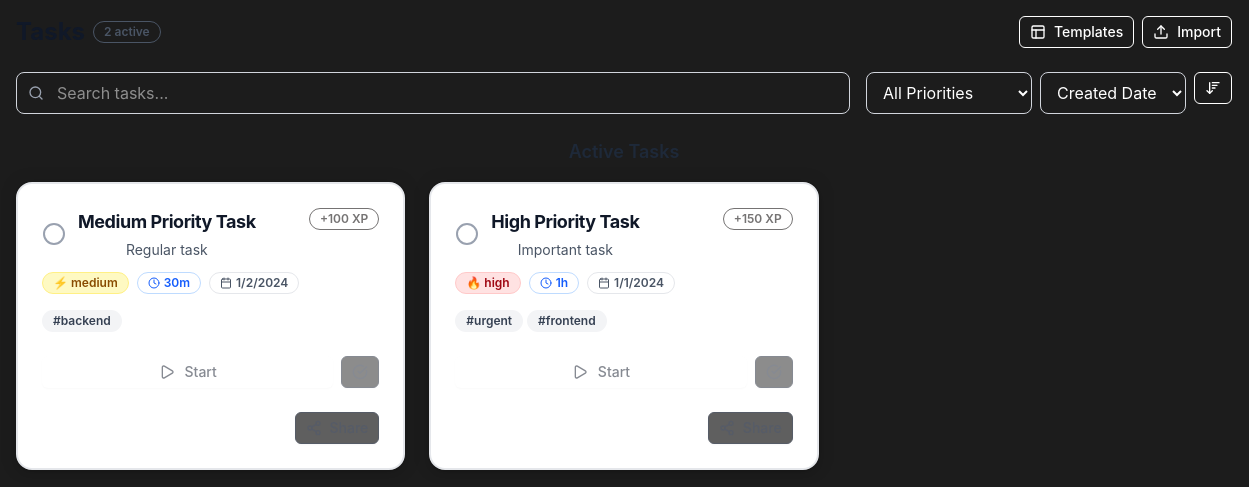
Scenario: TaskGrid › filters tasks by search query
Type "High Priority" into the field with placeholder "Search tasks..." at [433, 93], box [16,72,850,114]
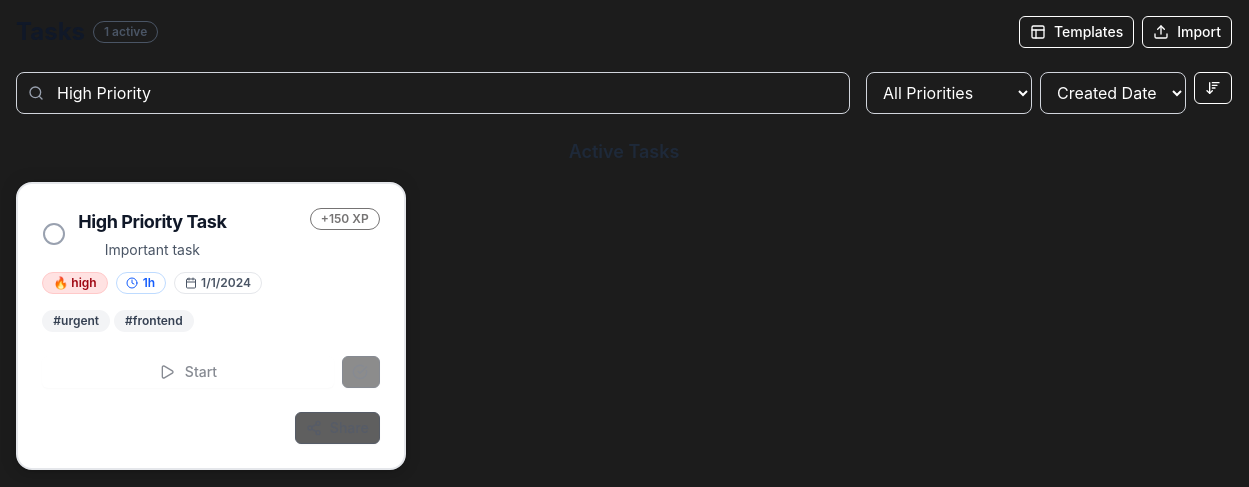
Expected: the heading "High Priority Task" is shown, [78,208,226,236]
Now the heading "Medium Priority Task" is gone
